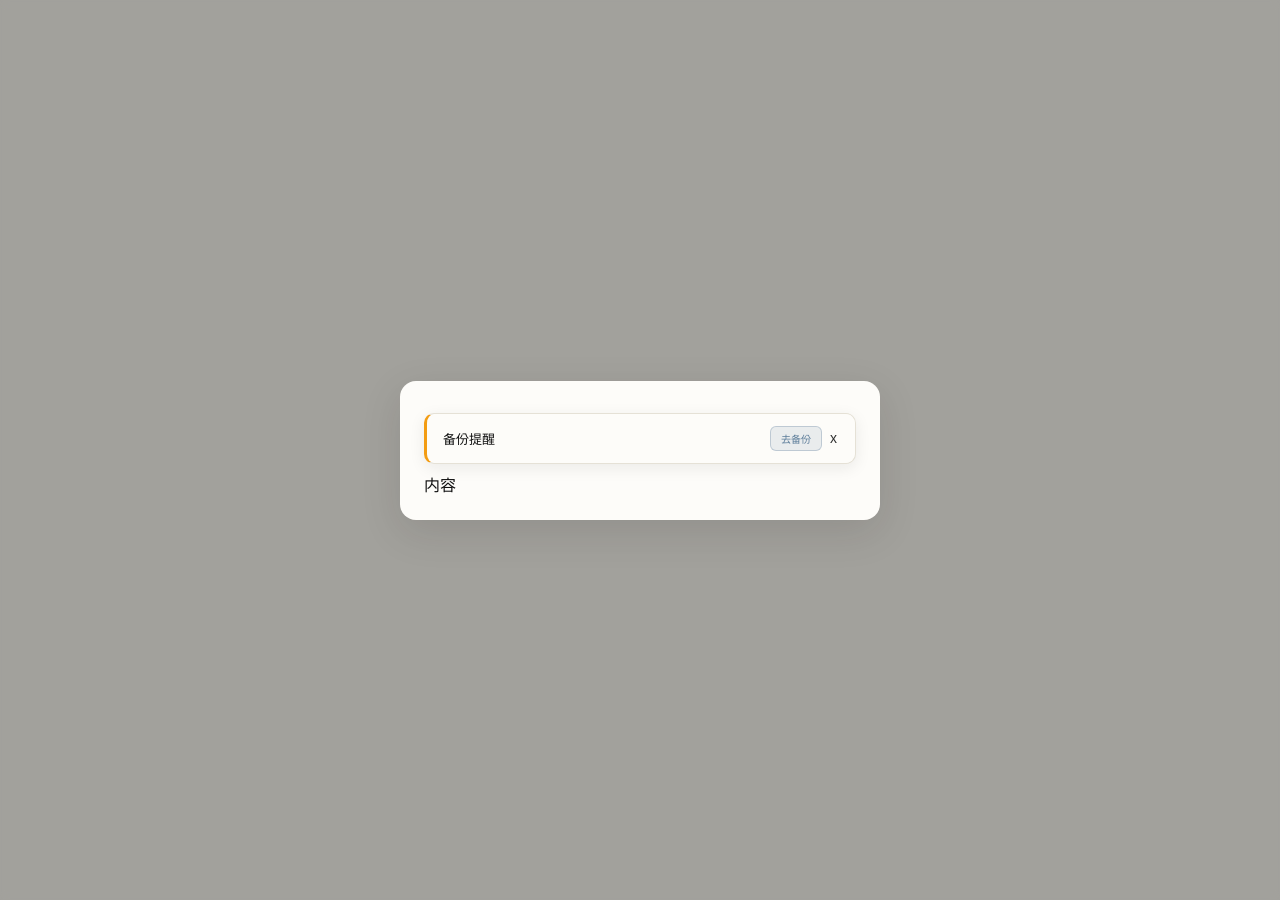
移动端通知宿主交接 › Toast 操作保持可用，键盘不会重复执行或误关所在对话框
Press Enter in the button "去备份", box [770,426,822,450]
Click the button "去备份" at (796, 438), box [770,426,822,450]
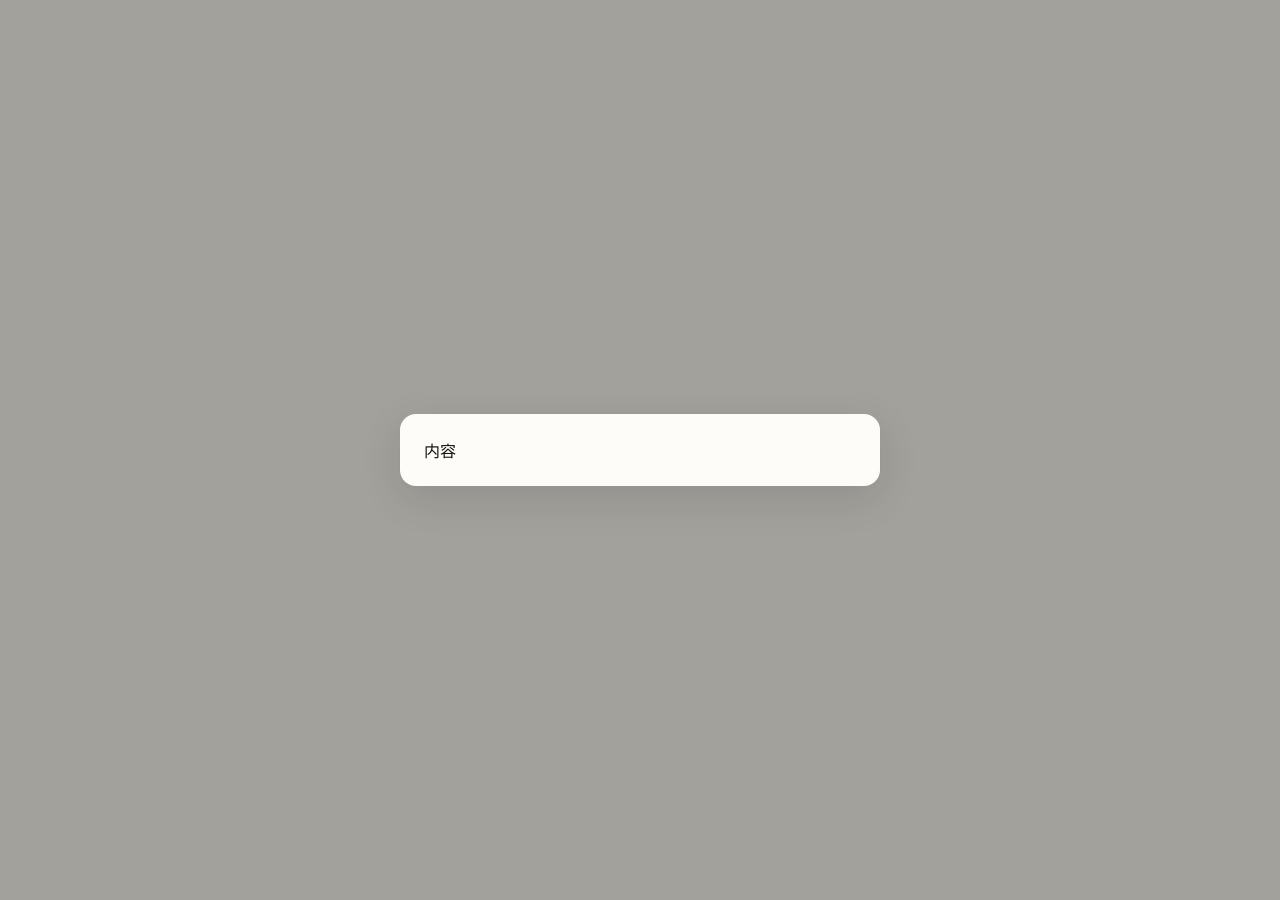
Result: the button "备份提醒" is gone
